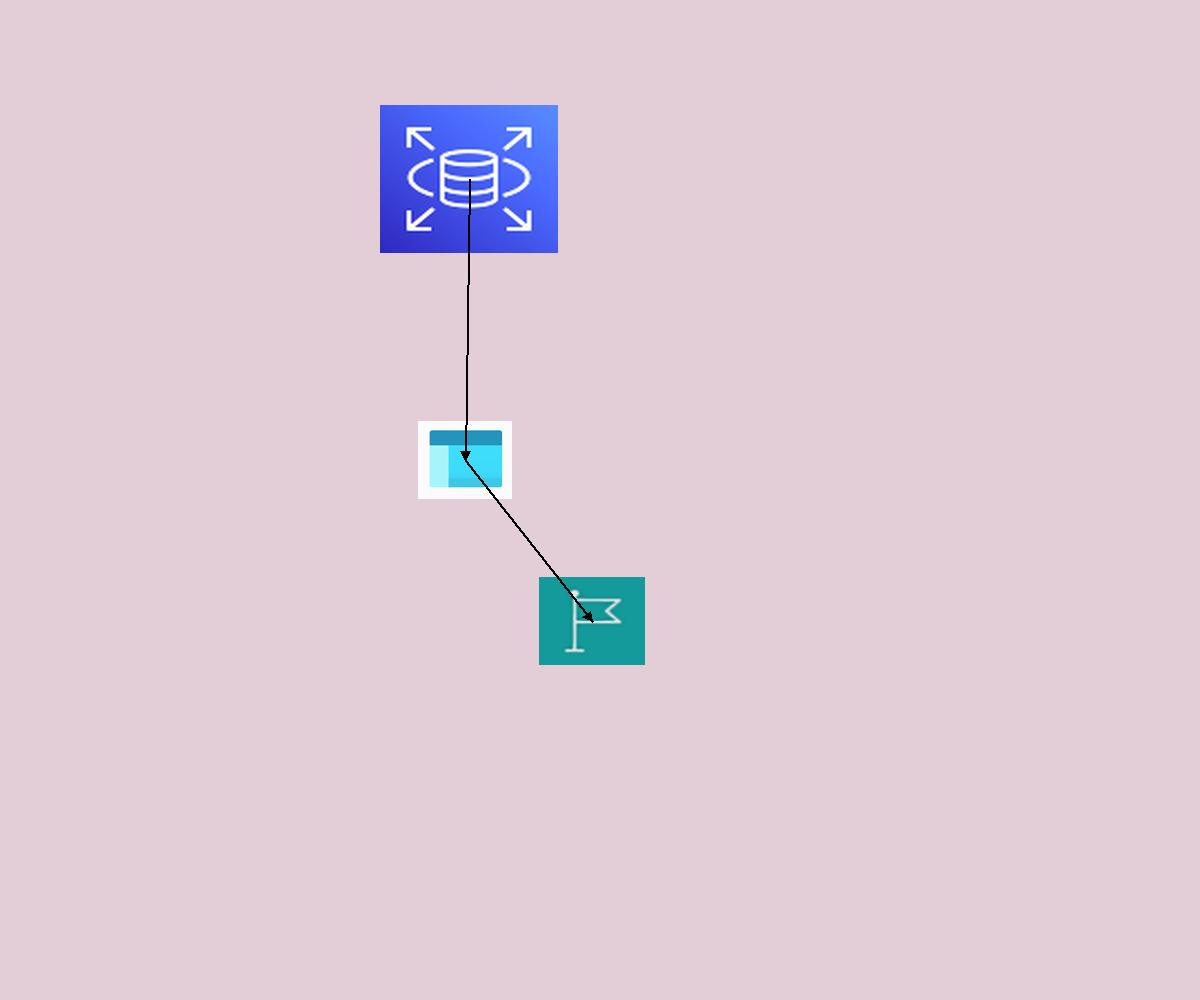AWS-RDS: (380, 105, 558, 253)
AWS-Region: (539, 577, 645, 665)
Azure_management-portal: (418, 421, 512, 499)
